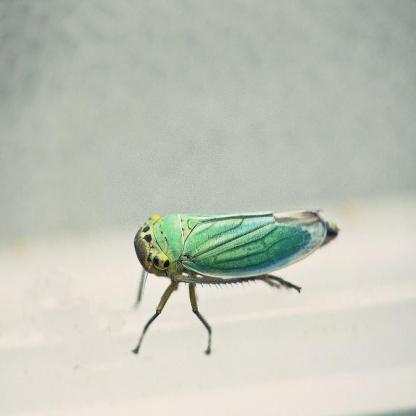Green-Leafhopper: (124, 203, 341, 362)
